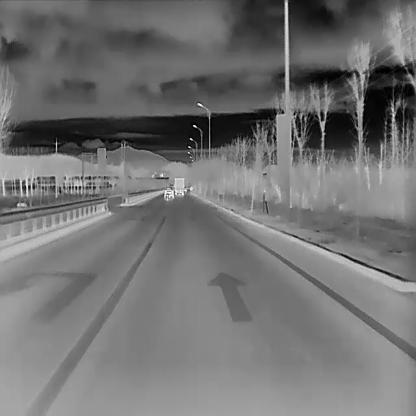car: (174, 176, 184, 194), (164, 186, 174, 198)
